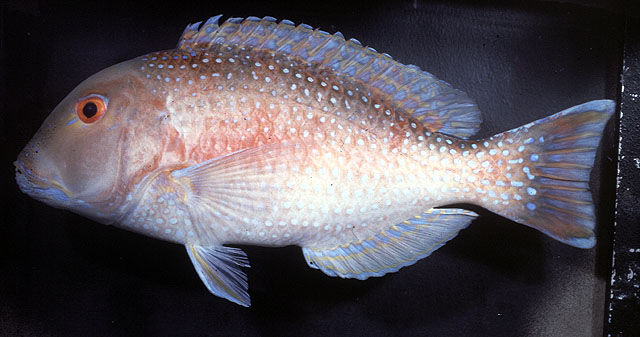fish: (15, 14, 616, 307)
